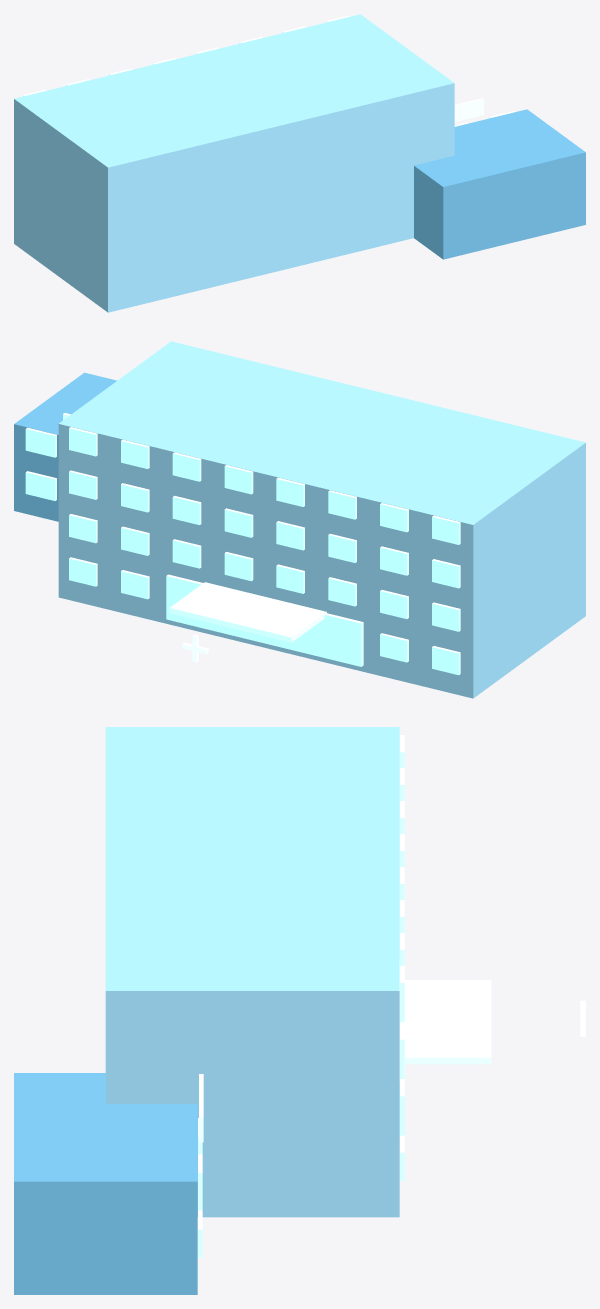
File: hospital-tier1-township.glb
The picture shows the model from 3 angles, top to bottom: view 1: azimuth 30°, elevation 25°; view 2: azimuth 150°, elevation 25°; view 3: azimuth 270°, elevation 25°; orthographic projection. The views are drawn at different scales.
Parts seen in each view (by area): view 1: HOSPITAL_TIER1; view 2: HOSPITAL_TIER1; view 3: HOSPITAL_TIER1.
Part boxes in pixels (<box>): HOSPITAL_TIER1: <box>14,14,585,312</box>; HOSPITAL_TIER1: <box>14,341,585,698</box>; HOSPITAL_TIER1: <box>14,727,585,1294</box>.
Bounding box in the file's own units: 44 × 13.6 × 31.15.
